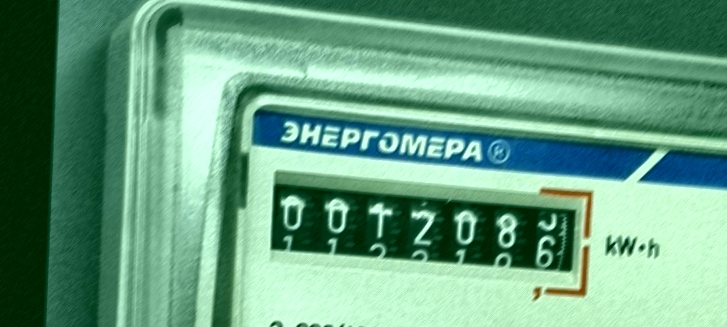0: (320, 192, 350, 235), (277, 188, 303, 231), (451, 205, 475, 245)
1: (365, 197, 389, 238)
2: (408, 205, 434, 245)
6: (529, 230, 554, 267)
8: (493, 208, 516, 249)
screen: (258, 155, 602, 308)
